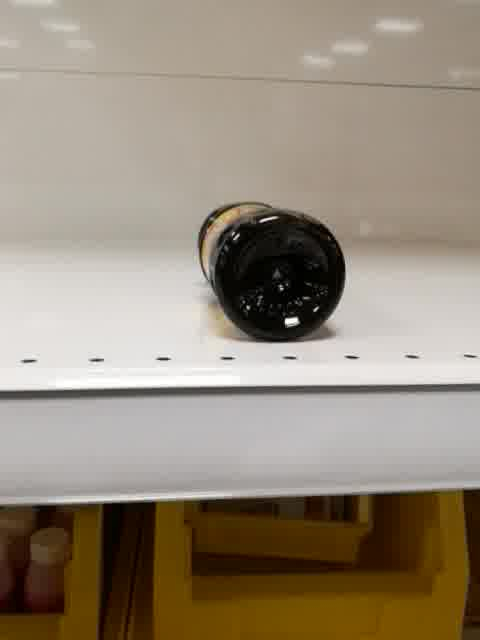cookingoil: (194, 196, 350, 349)
